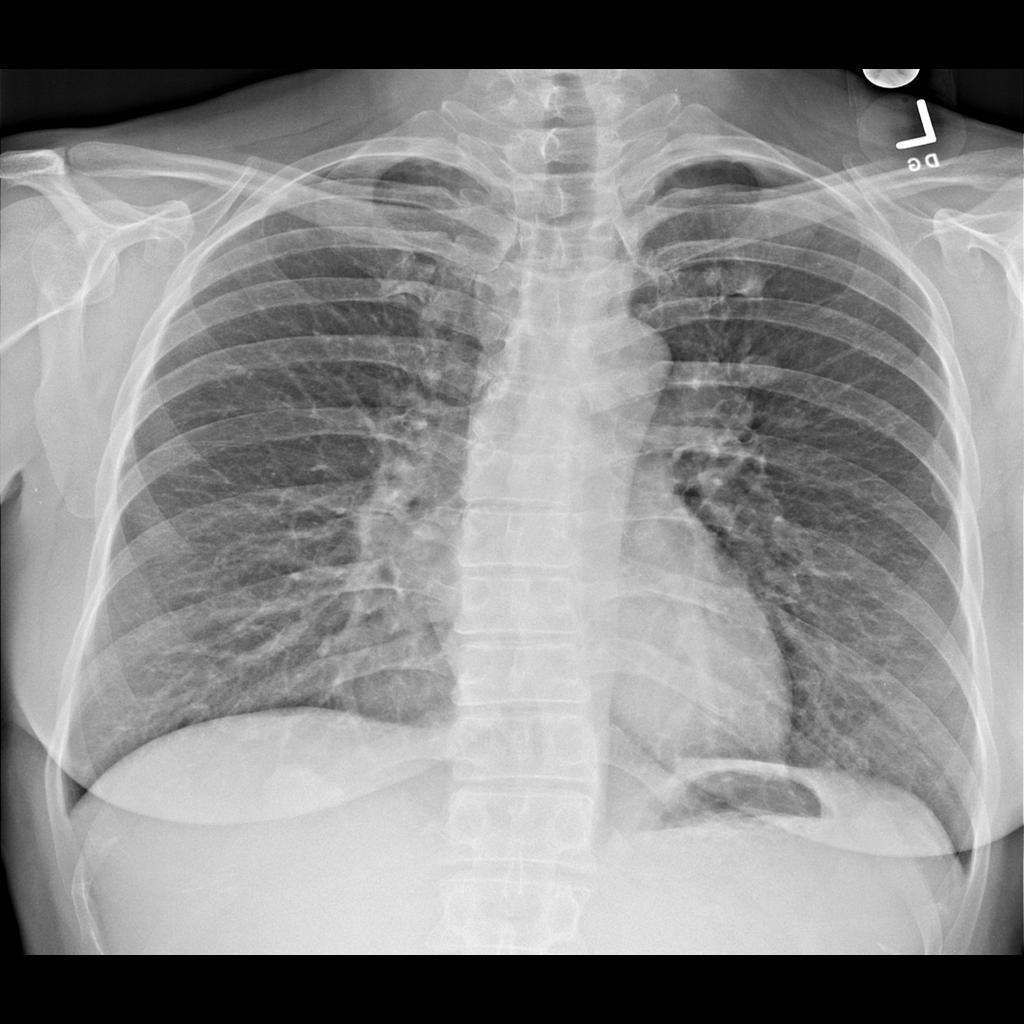Nodule: (736, 345, 792, 402)
